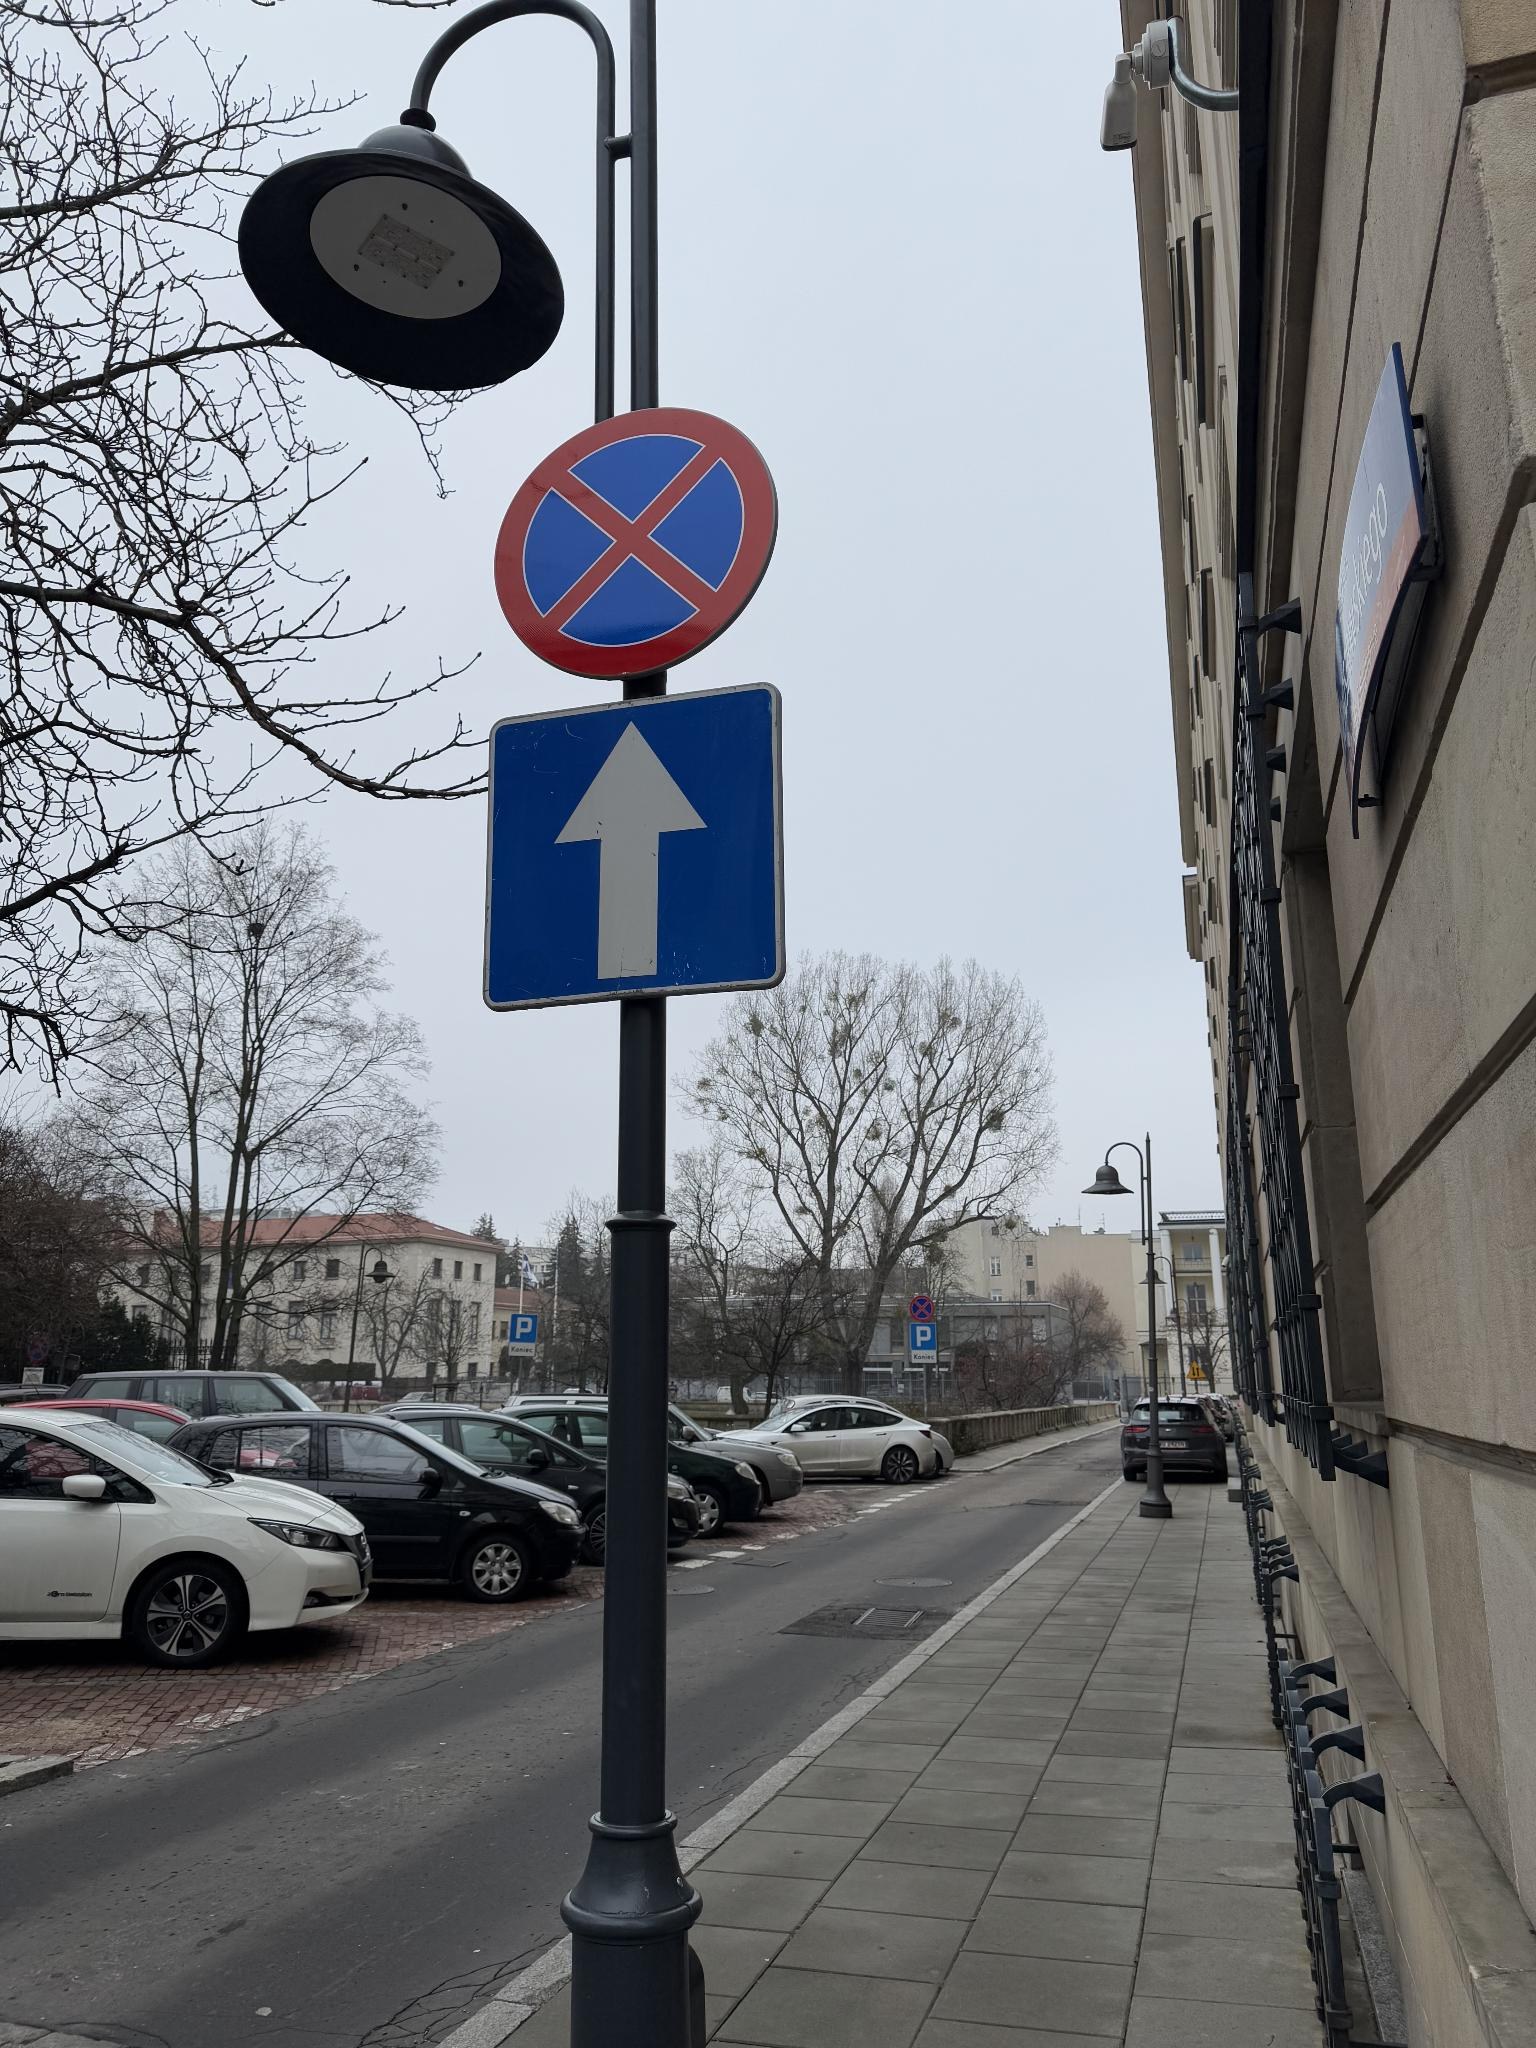information: (484, 682, 789, 1014), (508, 1314, 537, 1343), (910, 1322, 937, 1351)
other: (507, 1343, 537, 1356), (912, 1351, 937, 1363)
prohibitory: (490, 403, 779, 679), (908, 1295, 936, 1322)
warning: (1186, 1361, 1205, 1379)
